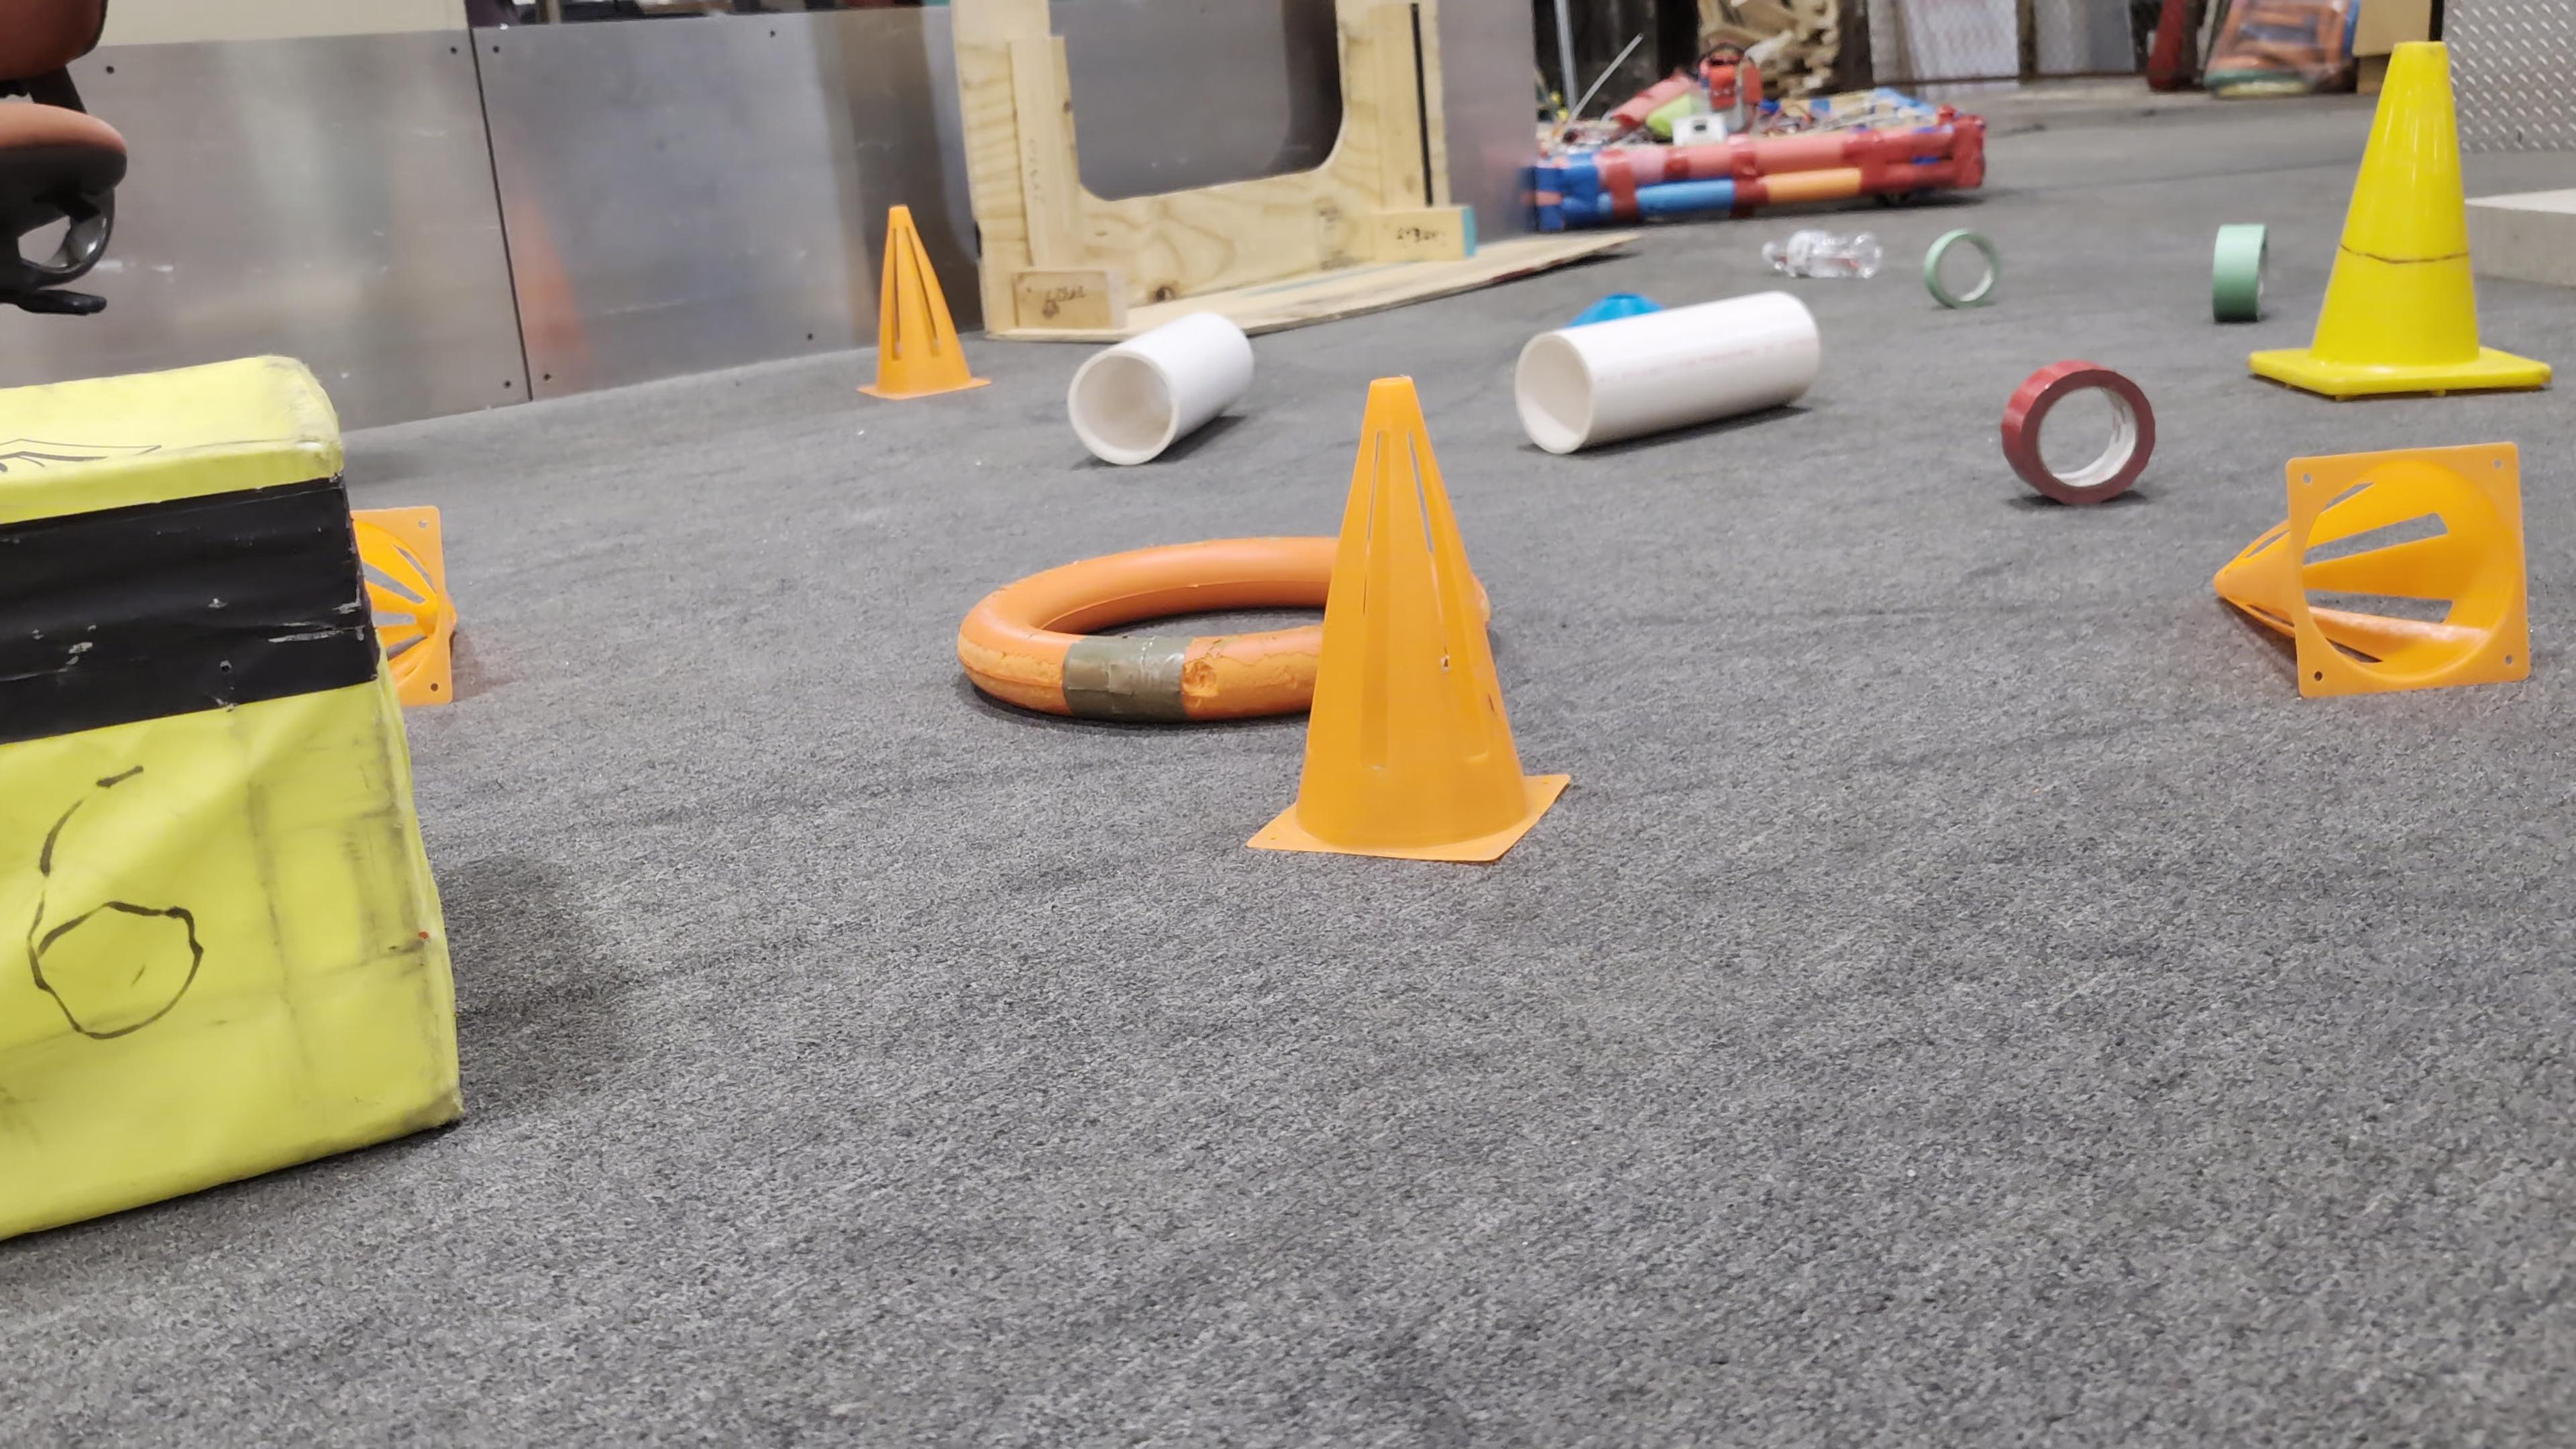coral: (1507, 284, 1823, 457), (1066, 301, 1255, 464)
